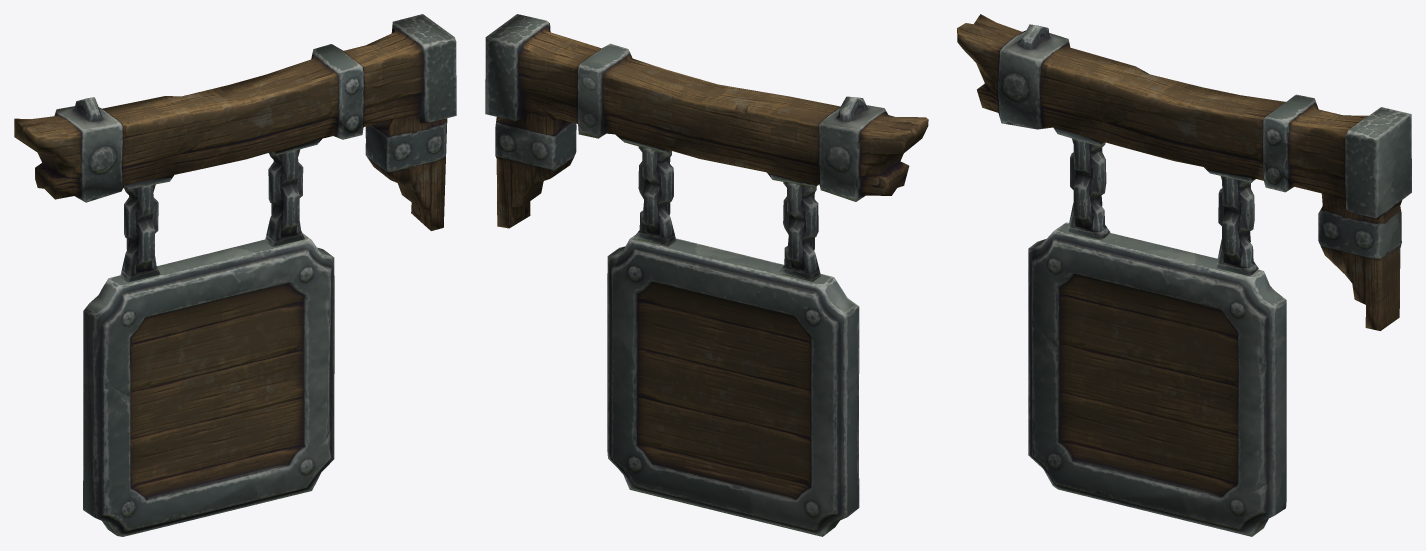
The model's file is S_MVillage_Signs_01_A.fbx.
The picture shows the model from 3 angles, left to right: view 1: azimuth 30°, elevation 25°; view 2: azimuth 150°, elevation 25°; view 3: azimuth 330°, elevation 25°; orthographic projection. The views are drawn at different scales.
Visible parts, largest first — view 1: S_MVillage_Signs_01_A_LOD0; view 2: S_MVillage_Signs_01_A_LOD0; view 3: S_MVillage_Signs_01_A_LOD0.
Boxes of the visible parts, box(x1,y1,x2,y2) form: S_MVillage_Signs_01_A_LOD0: box(14, 14, 456, 536); S_MVillage_Signs_01_A_LOD0: box(485, 14, 928, 536); S_MVillage_Signs_01_A_LOD0: box(957, 14, 1411, 536).
Size of what is drawn, in the model's own units: 187 by 190 by 29.43.
